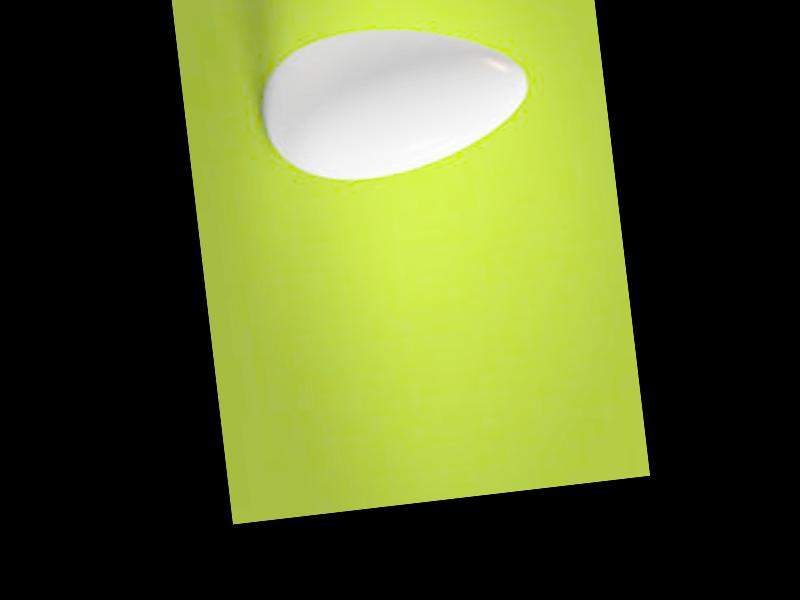Eggs: (256, 13, 539, 189)
